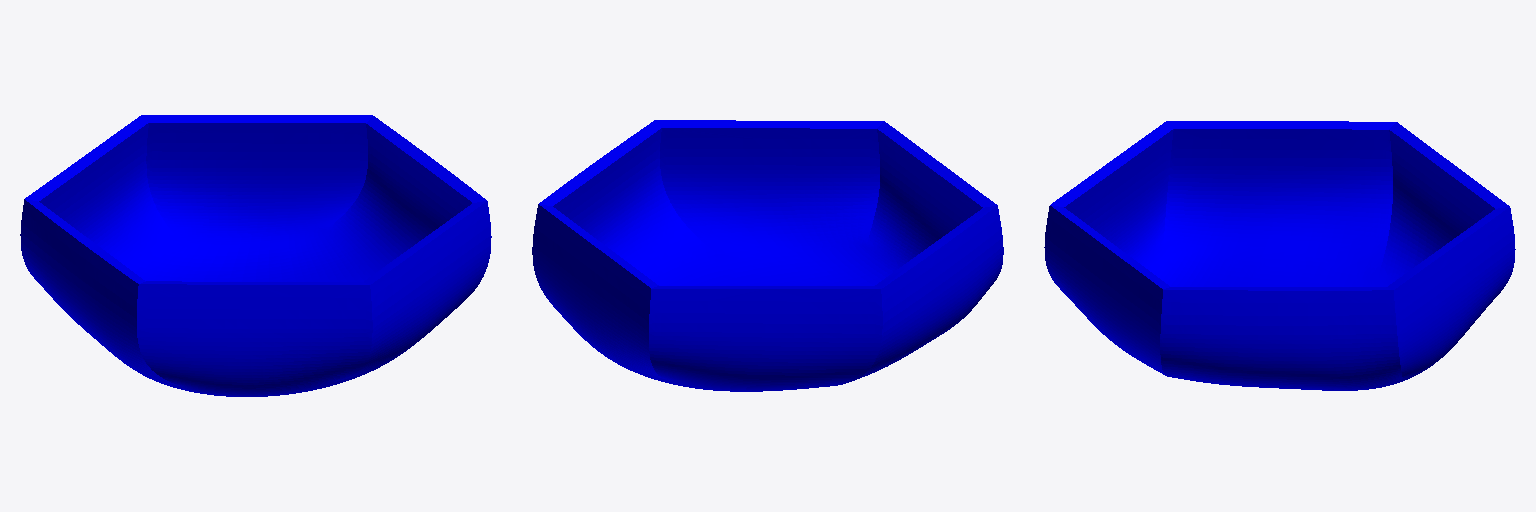
robot.urdf — bowl:
<?xml version="1.0"?>
<robot name="bowl">
  <material name="bowl_color">
      <color rgba="0 0 1 0.7" />
  </material>
  <link name="baselink" concave="yes">
    <contact>
        <lateral_friction value="0.4" />
        <rolling_friction value="0.001" />
    </contact>
    <inertial>
        <origin rpy="0 0 0" xyz="0.0 0.0 0.0" />
        <mass value="0.2" />
        <inertia ixx="0.000008" iyy="0.000014" izz="0.000008" ixy="0" ixz="-0.0000009" iyz="0"/>
    </inertial>
    <visual>
        <origin rpy="-1.5708 0 0" xyz="0 0 0" />
        <geometry>
            <mesh filename="package://scene/bowl2.stl" scale="0.005 0.005 0.005" />
        </geometry>
        <material name="bowl_color" />
    </visual>
    <collision>
        <origin rpy="-1.5708 0 0" xyz="0 0 0" />
        <geometry>
            <mesh filename="package://scene/bowl2.stl" scale="0.005 0.005 0.005" />
        </geometry>
    </collision>
    
  </link>
</robot>

--- Render facts (derived) ---
3 views of the same robot in one strip: view 1: azimuth 30°, elevation 25°; view 2: azimuth 150°, elevation 25°; view 3: azimuth 270°, elevation 25° (orthographic).
Robot: bowl — 1 links, 0 joints (none); root link baselink; default pose: every joint at zero.
Visible links, largest first — view 1: baselink; view 2: baselink; view 3: baselink.
Boxes of the visible links, x1,y1,x2,y2 form: baselink: (20,115,491,396); baselink: (532,120,1003,391); baselink: (1044,121,1515,390).
Bounding box of the posed robot: 0.2769 × 0.317 × 0.1024 m (x, y, z).
1 mesh visuals loaded from 1 distinct referenced files (1 binary STL).